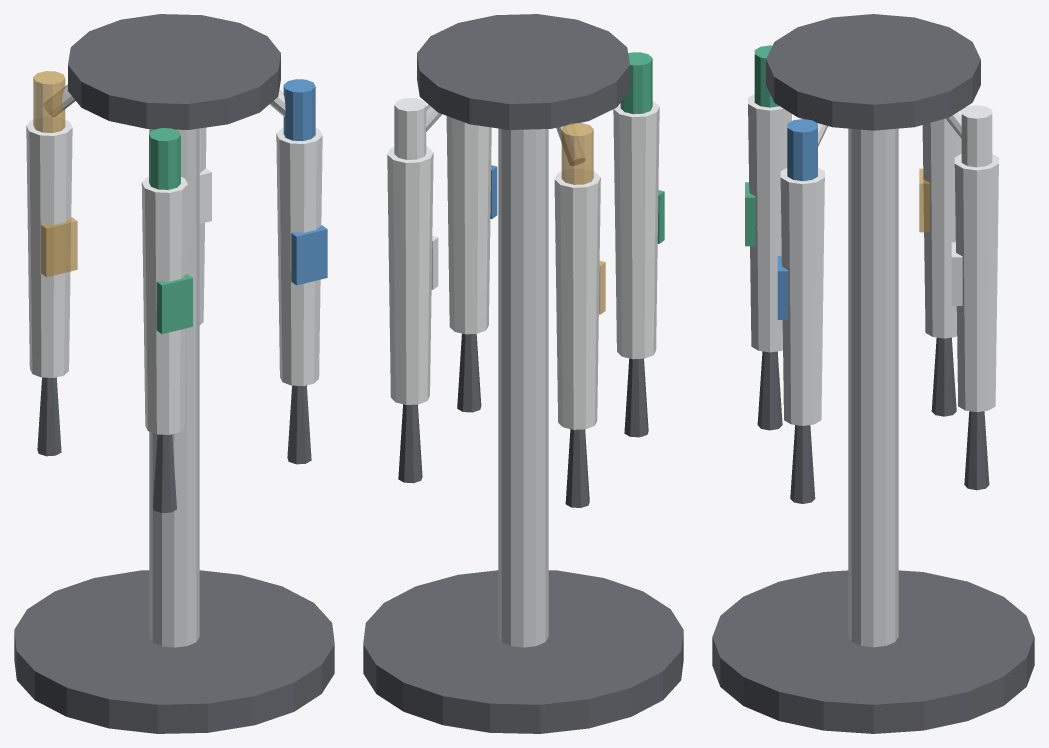
File: pipette-stand.glb
3 views of the same model, side by side, from view 1: azimuth 30°, elevation 25°; view 2: azimuth 150°, elevation 25°; view 3: azimuth 270°, elevation 25° (orthographic).
Parts seen in each view (by area): view 1: pipette-stand; view 2: pipette-stand; view 3: pipette-stand.
Boxes of the visible parts, x1,y1,x2,y2 form: pipette-stand: [14, 14, 334, 733]; pipette-stand: [363, 14, 683, 733]; pipette-stand: [712, 14, 1034, 733].
Bounding box in the file's own units: 0.18 × 0.374 × 0.18.
